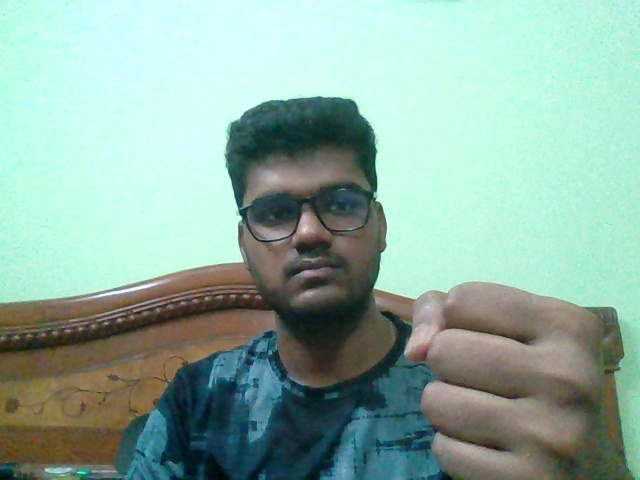Rock: (404, 281, 608, 480)
